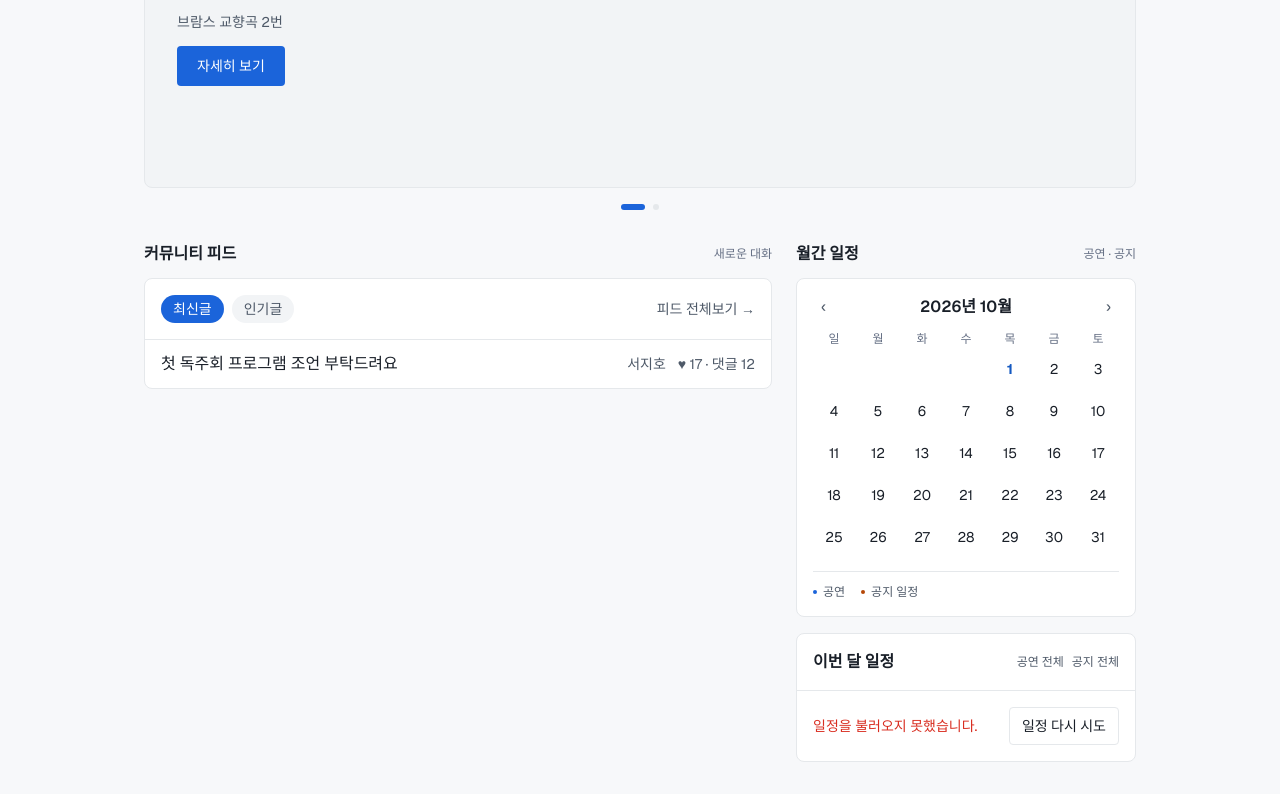
홈 › 일정 조회 실패를 빈 상태와 구분하고 재시도할 수 있다
(page scrolled)
Expected: the text "일정을 불러오지 못했습니다." is shown, [813,716,977,736]
Click the button "일정 다시 시도".
click(1064, 726)  # box [1009,707,1119,745]
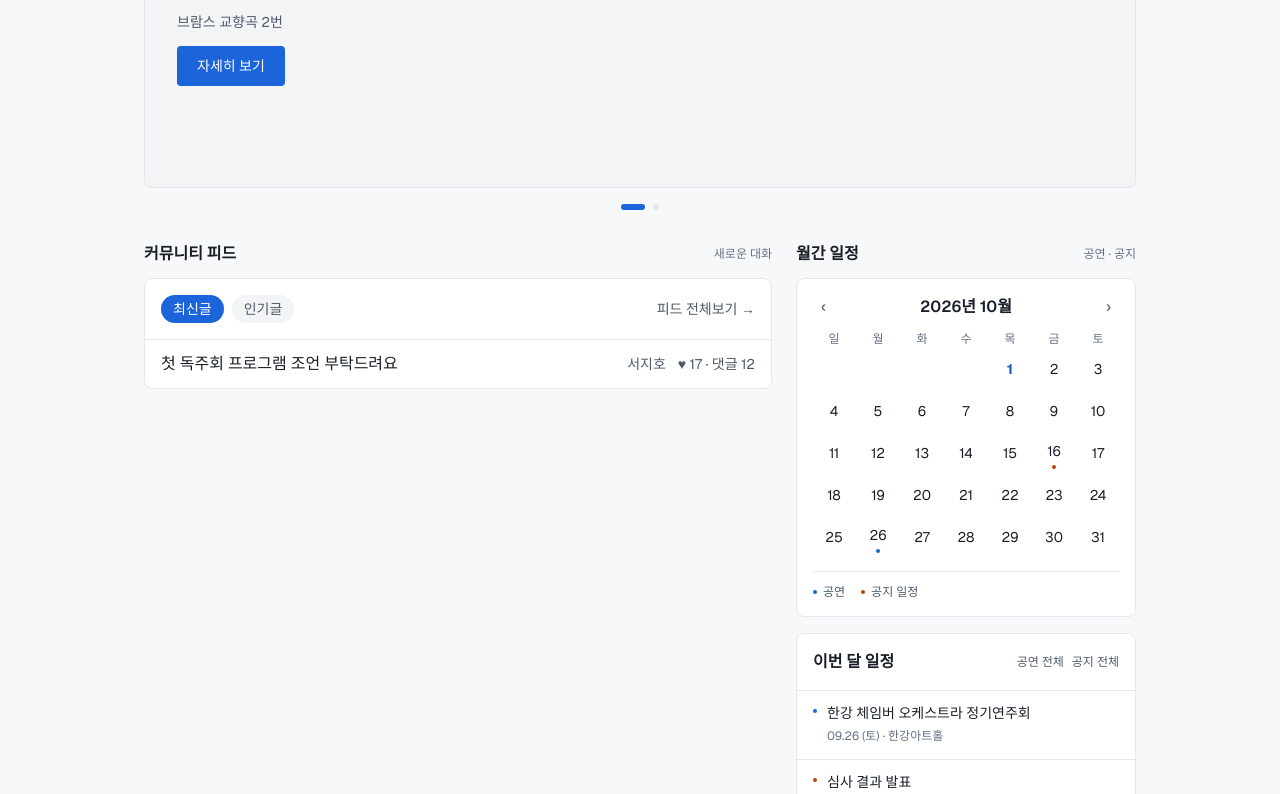
Expected: the text "심사 결과 발표" is shown, [827,772,911,792]
